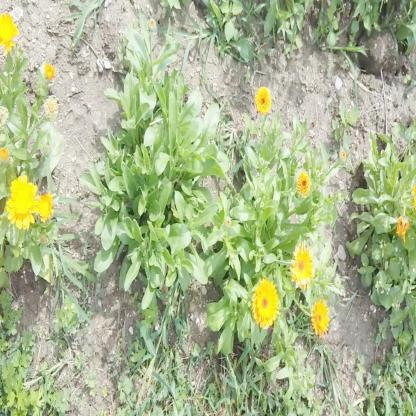marigold: (4, 174, 38, 227), (254, 280, 278, 326), (290, 245, 314, 287), (0, 12, 19, 55), (311, 297, 330, 334), (36, 190, 54, 221), (255, 85, 273, 113), (297, 170, 310, 196)
